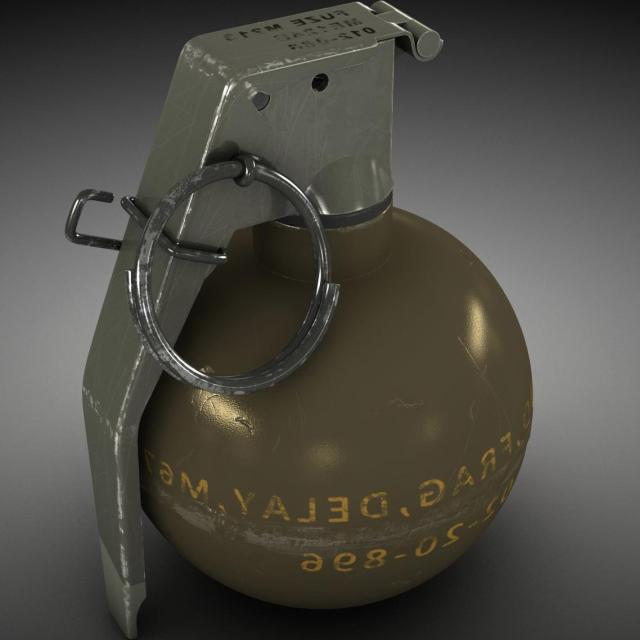grenade: (69, 1, 535, 639)
